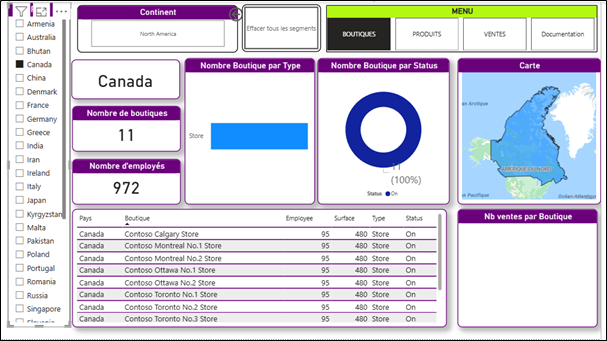

The dashboard page shown, as its layout file describes it:
{"tool":"powerbi","page":{"name":"BOUTIQUES","canvas":[1280,720],"ordinal":0},"visuals":[{"type":"slicer","title":"Continent","fields":{"Values":["Geographie.Continent"]},"box":[163.3,5.5,343.1,101.5],"z":0},{"type":"slicer","title":"Pays","fields":{"Values":["Geographie.Pays"]},"box":[13.7,0,134.5,694.3],"z":1000},{"type":"card","fields":{"Values":["Geographie.PaysSelected"]},"box":[150.9,122.1,231.9,85.1],"z":2000},{"type":"card","title":"Nombre de boutiques","fields":{"Values":["Boutiques.Nombre Boutique"]},"box":[152.3,222.3,231.9,97.4],"z":3000},{"type":"card","title":"Nombre d''employés","fields":{"Values":["Sum(Boutiques.Employee)"]},"box":[152.3,334.8,231.9,97.4],"z":4000},{"type":"funnel","fields":{"Category":["Boutiques.Type"],"Y":["Boutiques.Nombre Boutique"]},"box":[392.5,119.4,278.6,312.9],"z":5000},{"type":"donutChart","fields":{"Category":["Boutiques.Status"],"Y":["Boutiques.Nombre Boutique"]},"box":[675.1,119.4,282.7,312.9],"z":6000},{"type":"azureMap","title":"Carte","fields":{"Category":["Geographie.Pays","Geographie.Continent"]},"box":[974.3,119.4,306,312.9],"z":7000},{"type":"tableEx","fields":{"Values":["Geographie.Pays","Boutiques.Boutique","Boutiques.Employee","Boutiques.Surface","Boutiques.Type","Boutiques.Status"]},"box":[152.3,441.9,800,252.5],"z":8000},{"type":"actionButton","box":[481.6,5.5,100.2,39.8],"z":9000},{"type":"columnChart","fields":{"Category":["Boutiques.Boutique"],"Y":["Sales.Nb ventes"]},"box":[974.3,441.9,299.1,252.5],"z":10000},{"type":"actionButton","box":[515,5,168.8,101.2],"z":11000},{"type":"pageNavigator","title":"MENU","box":[694.4,5.6,578.9,101.1],"z":12000}]}

Visuals, with their boxes in screenshot pixels (x1, y1, x2, y2), scaled from the page's 1280x720 canvas onto the 607x341 screenshot:
"Continent" slicer: x1=77 y1=3 x2=240 y2=51
"Pays" slicer: x1=6 y1=0 x2=70 y2=329
card - Geographie.PaysSelected: x1=72 y1=58 x2=182 y2=98
"Nombre de boutiques" card: x1=72 y1=105 x2=182 y2=151
"Nombre d''employés" card: x1=72 y1=159 x2=182 y2=205
funnel - Boutiques.Type x Boutiques.Nombre Boutique: x1=186 y1=57 x2=318 y2=205
donutChart - Boutiques.Status x Boutiques.Nombre Boutique: x1=320 y1=57 x2=454 y2=205
"Carte" azureMap: x1=462 y1=57 x2=606 y2=205
tableEx - Geographie.Pays x Boutiques.Boutique: x1=72 y1=209 x2=452 y2=329
actionButton: x1=228 y1=3 x2=276 y2=21
columnChart - Boutiques.Boutique x Sales.Nb ventes: x1=462 y1=209 x2=604 y2=329
actionButton: x1=244 y1=2 x2=324 y2=50
"MENU" pageNavigator: x1=329 y1=3 x2=604 y2=51
